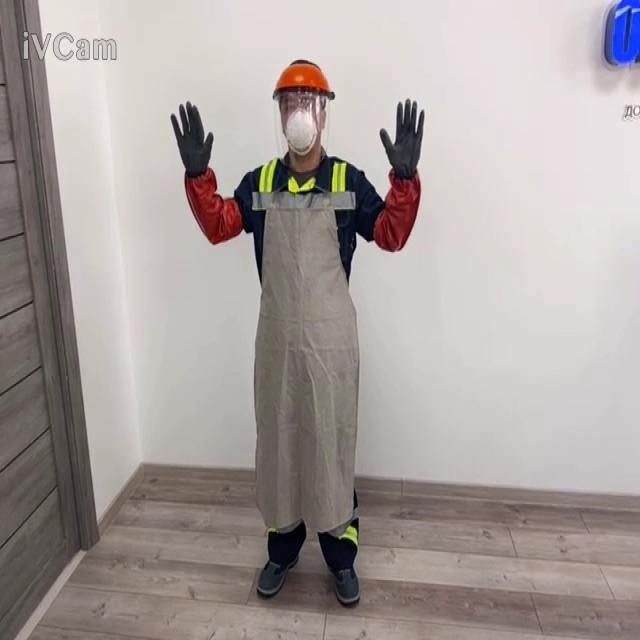Gloves: (603, 0, 639, 65)
Helmet: (272, 59, 335, 100)
Mask: (283, 105, 318, 156)
Safety Shoes: (256, 553, 298, 596), (331, 565, 360, 604)
Sleeve: (183, 165, 243, 244), (372, 167, 420, 252)
gloves: (379, 97, 424, 179), (170, 100, 213, 177)
